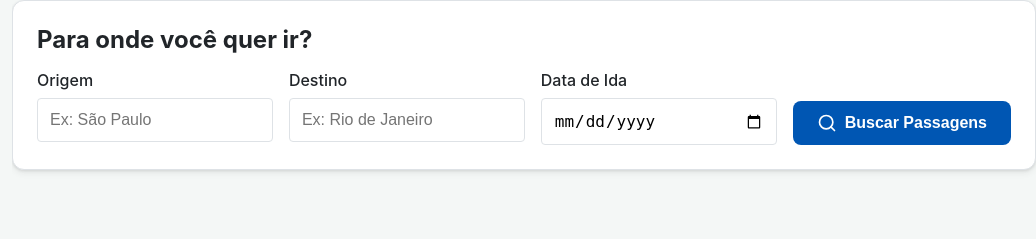
Scenario: SearchPage › deve exibir mensagem de vazio quando não encontrar passagens
The image size is (1036, 239).
Type "CidadeInexistente" into the field with placeholder "Ex: São Paulo" at (155, 120), box top-left (37, 98), bottom-right (273, 142)
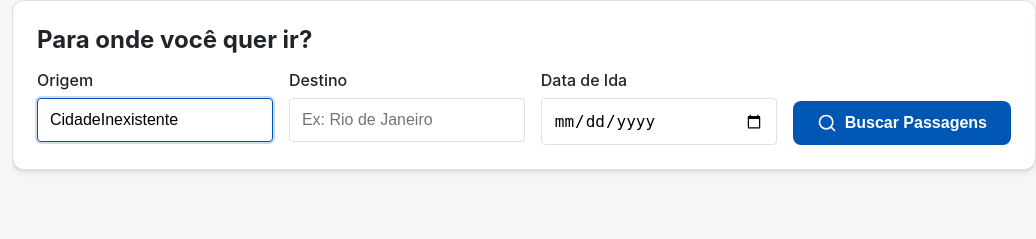
Click the button "Buscar Passagens" at (902, 123), box top-left (793, 101), bottom-right (1011, 145)
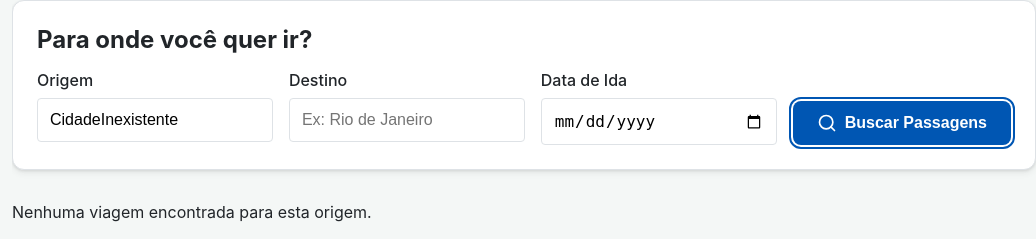
Expected: the text "Nenhuma viagem encontrada para esta origem." is shown, top-left (12, 202), bottom-right (372, 222)
